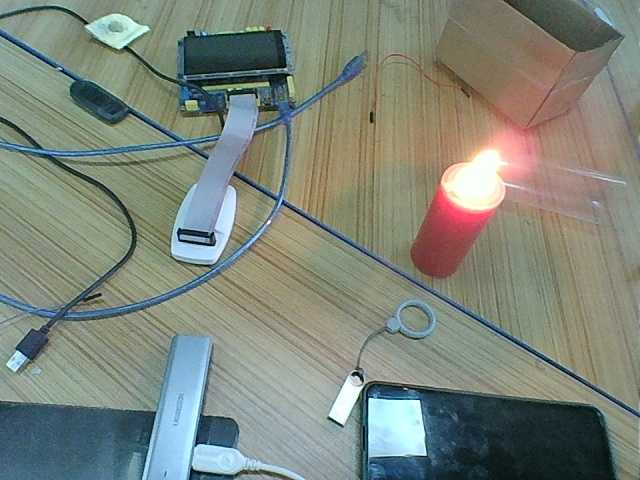candle: (419, 195, 494, 281)
fire: (444, 151, 504, 198)
